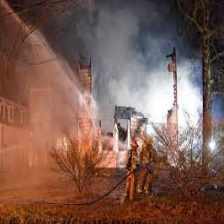smoke: (81, 7, 169, 104), (29, 84, 71, 151)
